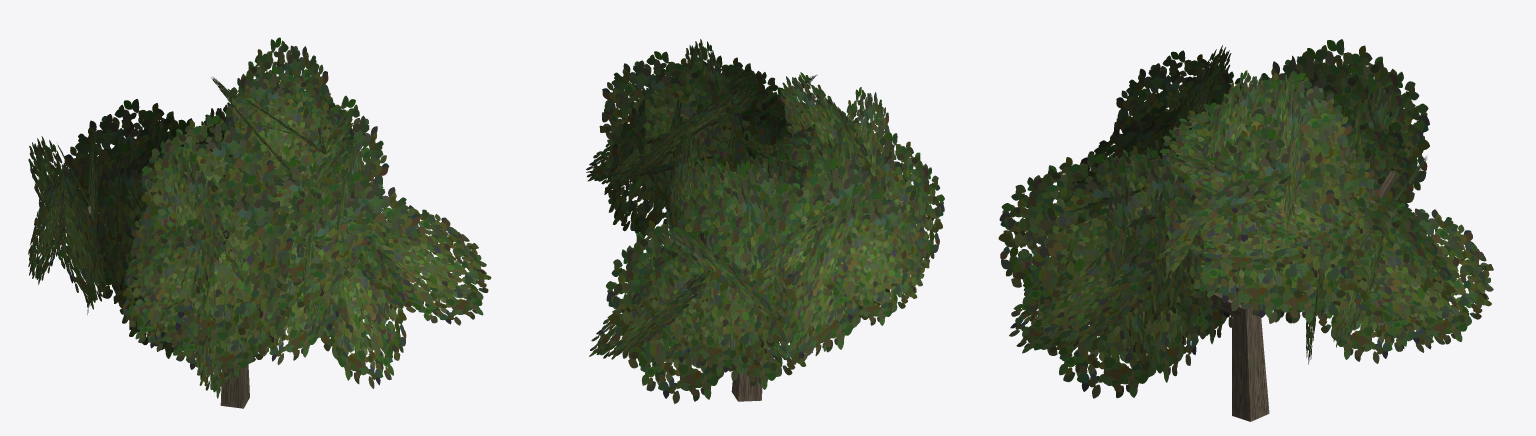
Rendered from Tree_Oak_Lone_2_LOD2.gltf.
3 views of the same model, side by side, from view 1: azimuth 30°, elevation 25°; view 2: azimuth 150°, elevation 25°; view 3: azimuth 270°, elevation 25° (orthographic). The views are drawn at different scales.
Visible parts, largest first — view 1: Tree_Oak_Lone_2_LOD2; view 2: Tree_Oak_Lone_2_LOD2; view 3: Tree_Oak_Lone_2_LOD2.
Boxes of the visible parts, x1,y1,x2,y2 form: Tree_Oak_Lone_2_LOD2: [28, 37, 491, 408]; Tree_Oak_Lone_2_LOD2: [586, 39, 944, 403]; Tree_Oak_Lone_2_LOD2: [998, 39, 1493, 421].
Size of the model in its own units: 19.51 by 16.01 by 20.85.
2 materials, 2 textured.
